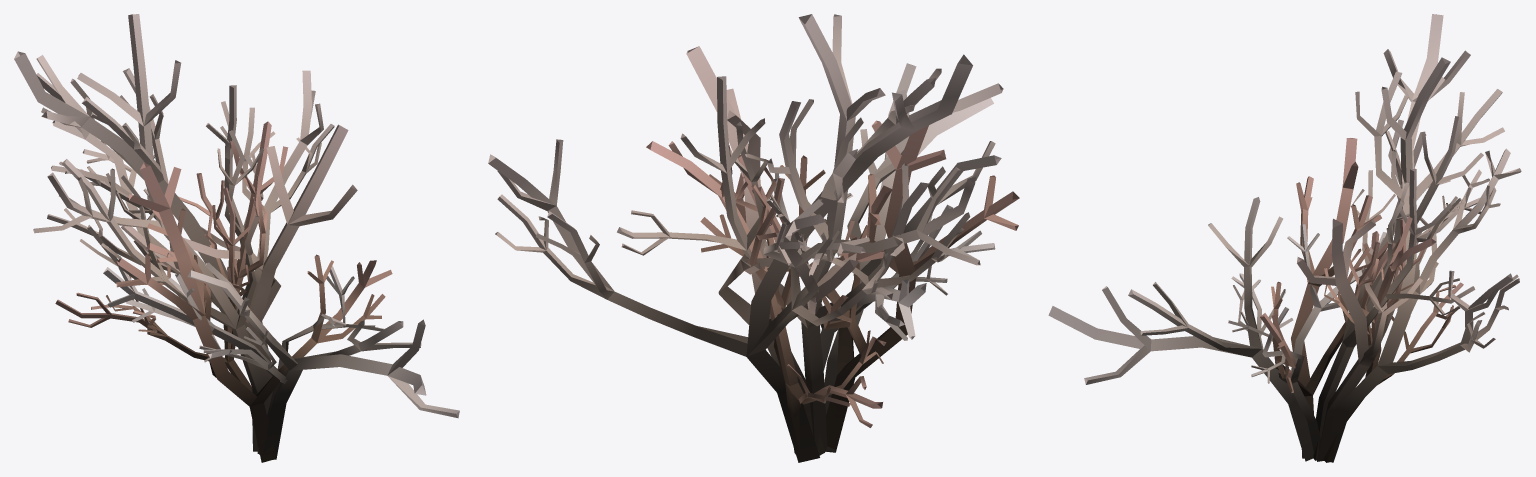
File: DeadBushV2.fbx
3 views of the same model, side by side, from view 1: azimuth 30°, elevation 25°; view 2: azimuth 150°, elevation 25°; view 3: azimuth 270°, elevation 25° (orthographic). The views are drawn at different scales.
Visible parts, largest first — view 1: BushV2; view 2: BushV2; view 3: BushV2.
Boxes of the visible parts, x1=… form: BushV2: x1=14, y1=14, x2=459, y2=462; BushV2: x1=488, y1=14, x2=1019, y2=462; BushV2: x1=1048, y1=14, x2=1521, y2=462.
Bounding box in the file's own units: 71.02 × 80.43 × 92.1.
